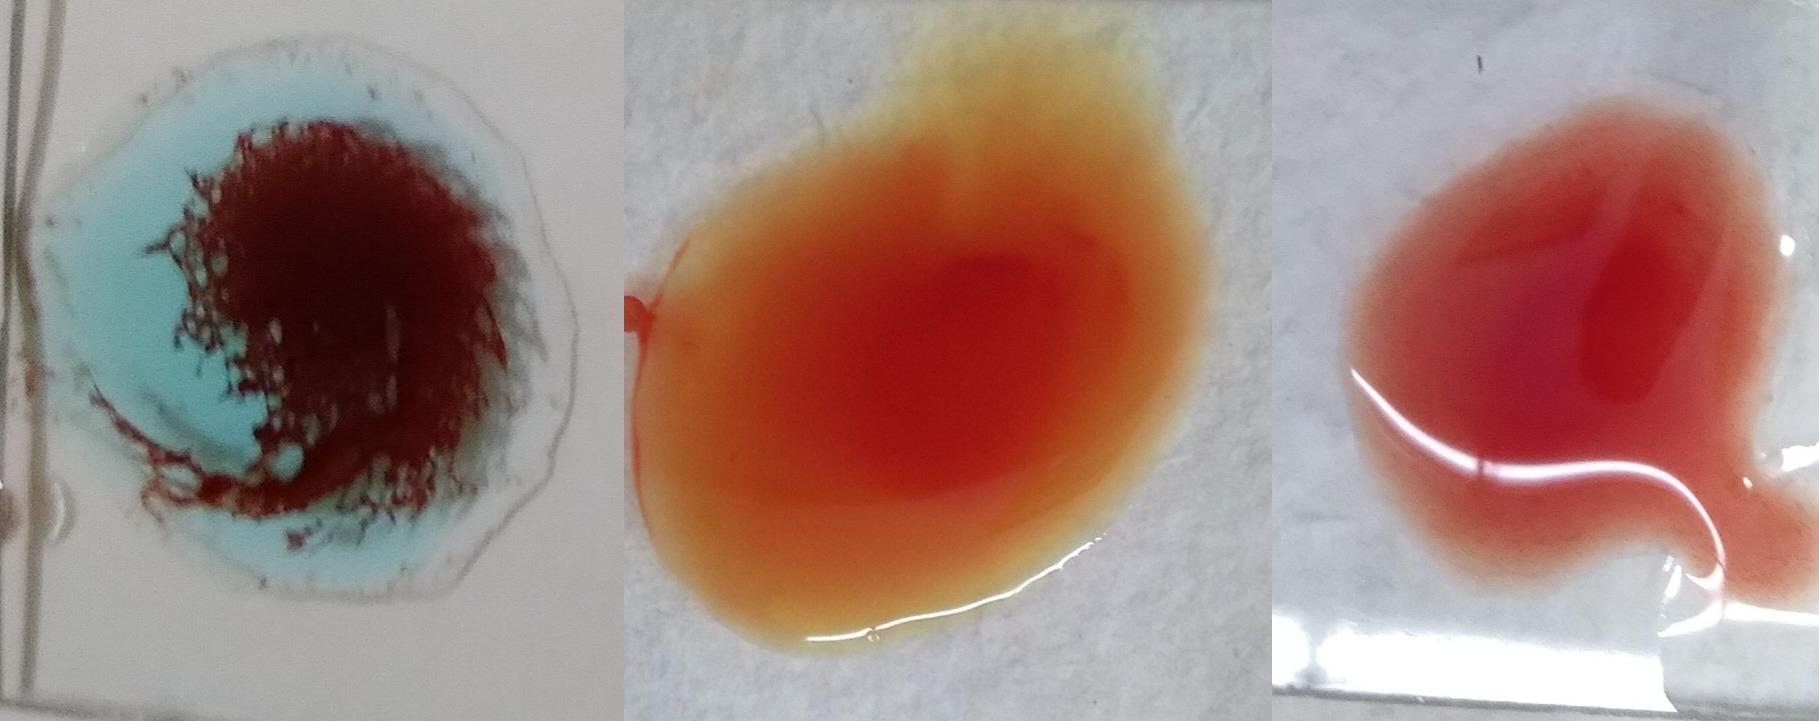A: (53, 56, 578, 617)
